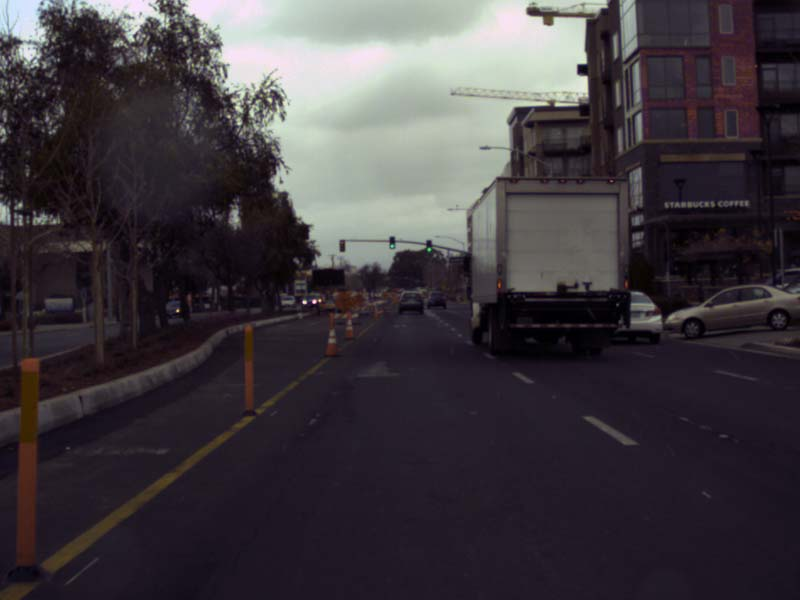Green: (426, 239, 431, 252), (390, 237, 394, 248), (482, 269, 485, 276)
Red: (340, 240, 344, 251)
